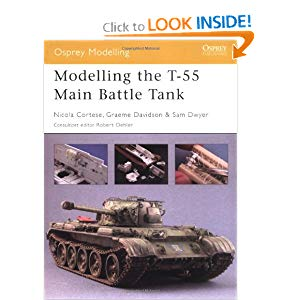Battle Tank: (46, 197, 238, 287)
